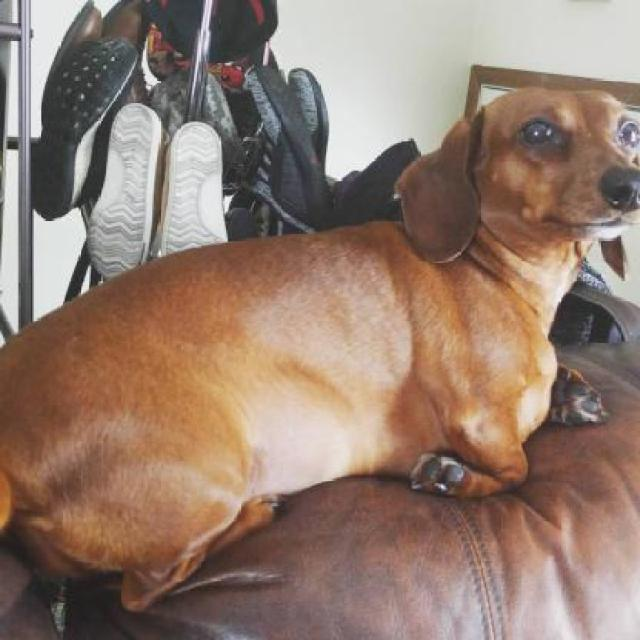Dog: (1, 77, 638, 621)
